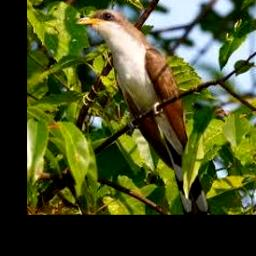Cuckoo: (77, 9, 212, 215)
